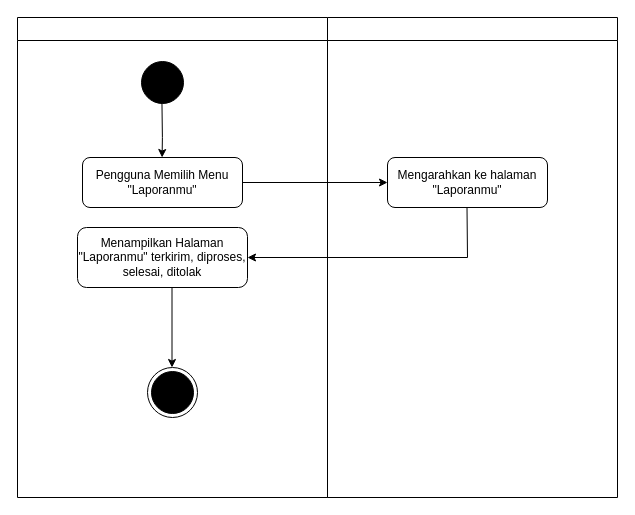
Some shapes in this 635 by 515 pixel diagram are drawn without their labels. Here are the shapes that lost their labels. From the top down, the box of each, then its label:
(16, 16, 328, 498): Masyarakat
(326, 16, 618, 498): Sistem
